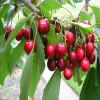Cherry leaf: (0, 15, 32, 65), (17, 44, 39, 99), (40, 62, 70, 99), (80, 62, 99, 99), (67, 17, 97, 37), (39, 5, 53, 20)
